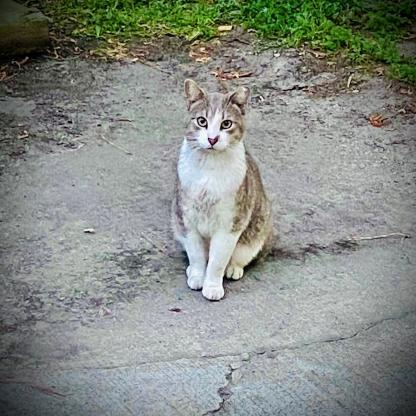cat: (169, 77, 287, 306)
